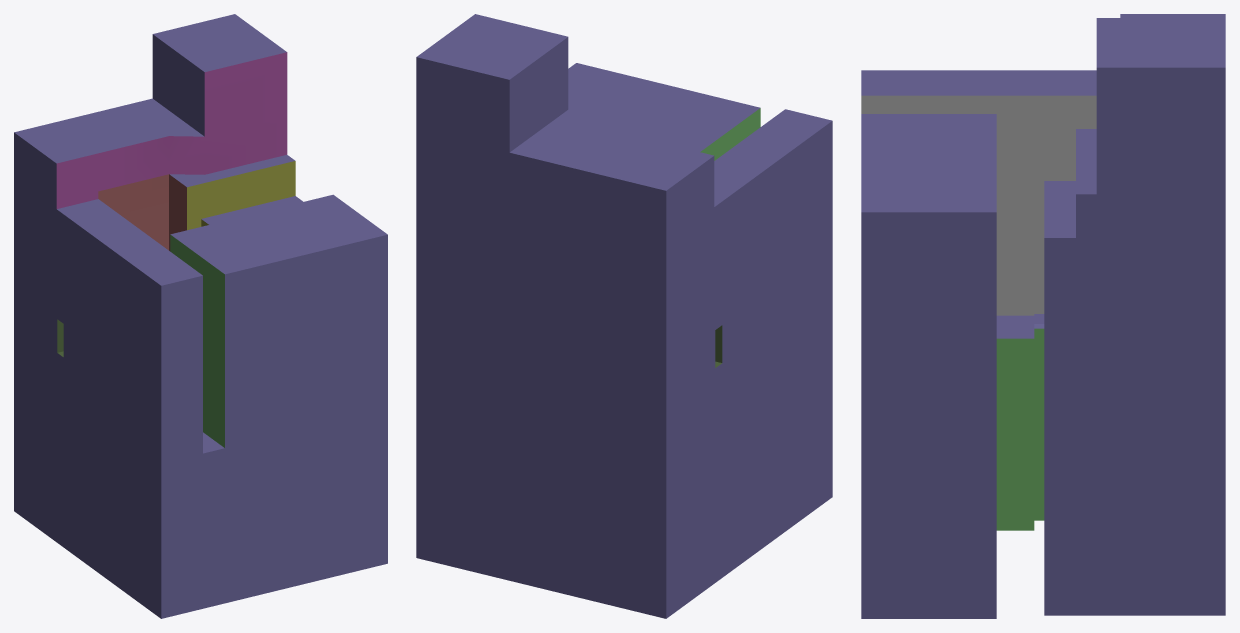
File: testBuilding124.fbx
3 renders of one model, left to right at view 1: azimuth 30°, elevation 25°; view 2: azimuth 150°, elevation 25°; view 3: azimuth 270°, elevation 25°, orthographic. The views are drawn at different scales.
Parts seen in each view (by area): view 1: walls2; view 2: walls2; view 3: walls2.
Part boxes in pixels (<box>): walls2: <box>14,14,387,618</box>; walls2: <box>416,14,832,618</box>; walls2: <box>861,14,1225,618</box>.
Size of the model in its own units: 78.23 by 146 by 88.02.
